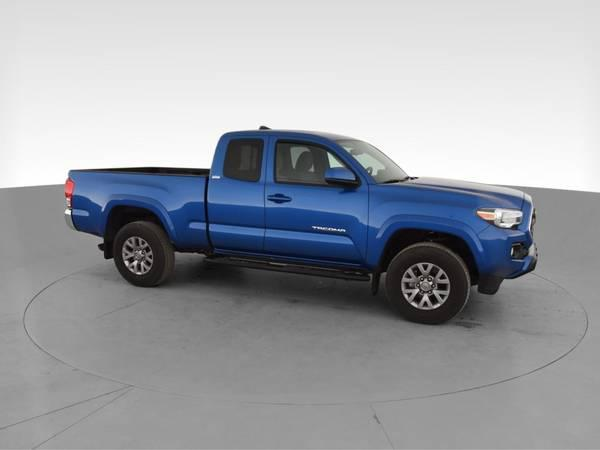Front_Bumper: (467, 214, 538, 279)
Front_Fender: (365, 184, 500, 265)
Front_Right_Door: (264, 181, 369, 268)
Front_Right_Window: (264, 133, 369, 188)
Front_Windshield: (331, 138, 408, 184)
Hood: (380, 175, 533, 216)
Rear_Fender: (68, 172, 210, 254)
Rear_Right_Door: (206, 178, 264, 260)
Rear_Right_Window: (207, 131, 268, 185)
Right_Headlight: (475, 206, 525, 228)
Right_Taillight: (65, 178, 74, 210)
Wheel: (385, 241, 470, 322), (108, 219, 173, 285)
